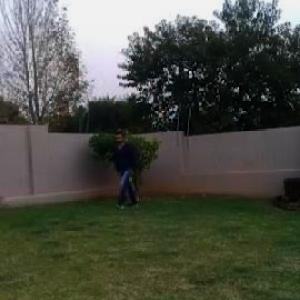follow: (112, 126, 137, 211)
